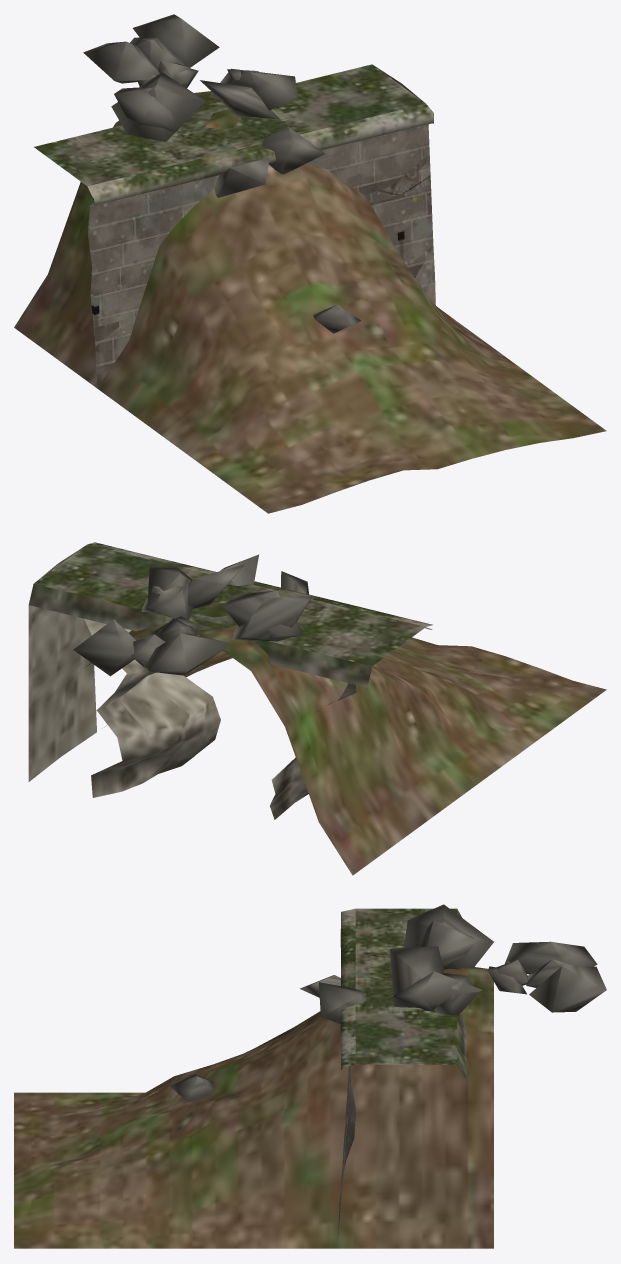
The model's file is starfort_counterscarp_live.glb.
3 views of the same model, one above another, from view 1: azimuth 30°, elevation 25°; view 2: azimuth 150°, elevation 25°; view 3: azimuth 270°, elevation 25° (orthographic). The views are drawn at different scales.
Visible parts, largest first — view 1: breached, intact, cracked; view 2: breached, intact, cracked, endcap_b; view 3: breached, intact, cracked.
Part boxes in pixels (x1,y1,x2,y2): breached: (14, 14, 606, 513); intact: (34, 64, 433, 357); cracked: (37, 65, 433, 380); breached: (31, 545, 606, 875); intact: (28, 542, 432, 687); cracked: (31, 542, 431, 686); endcap_b: (28, 546, 96, 781); breached: (14, 904, 606, 1248); intact: (340, 908, 466, 1194); cracked: (337, 908, 466, 1244).
Size of what is drawn, in the model's own units: 4.03 by 2.72 by 6.42.
1 material, 1 textured.
